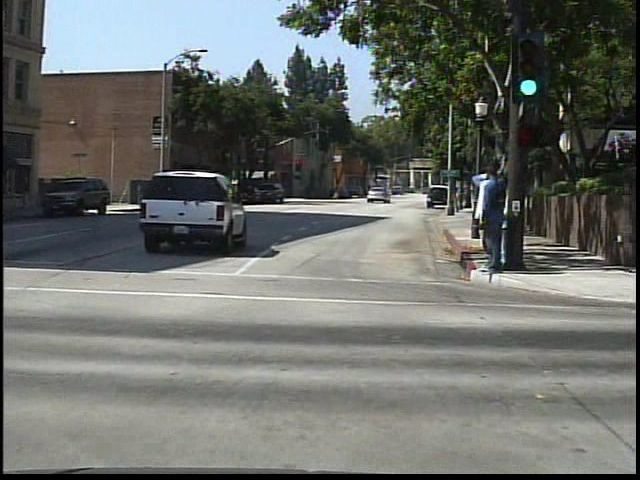person: (468, 168, 499, 275), (478, 164, 506, 277), (330, 184, 341, 201)
